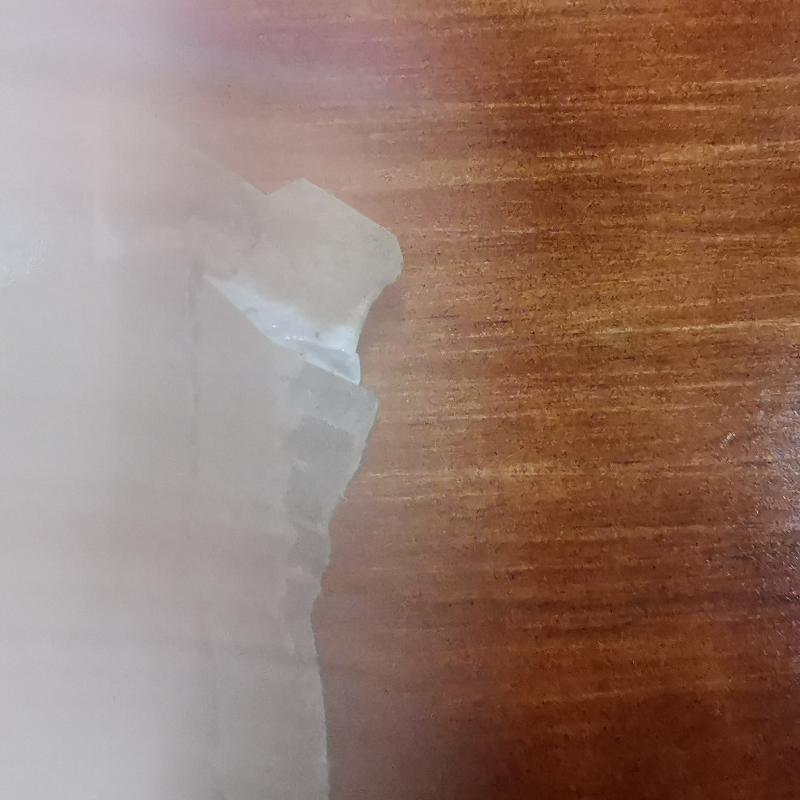boxes: (193, 63, 407, 800)
